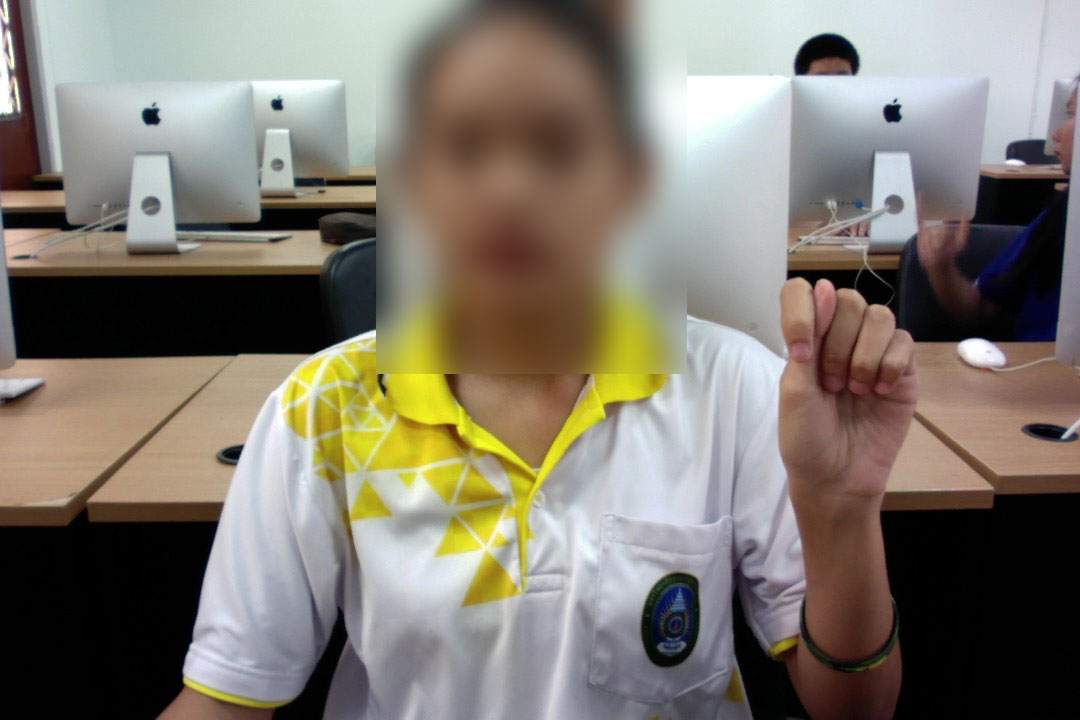tor: (770, 276, 925, 524)
